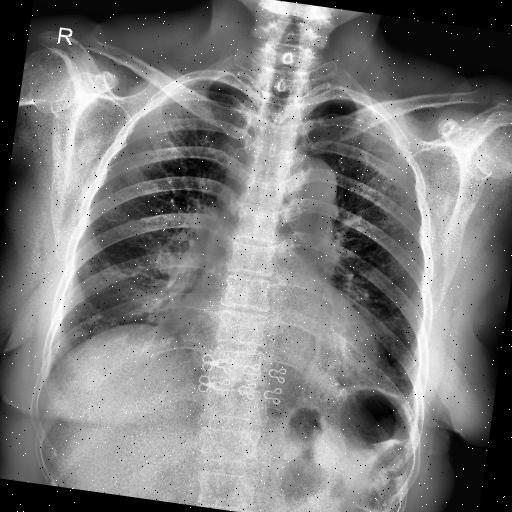0- Aortic enlargement: (266, 148, 345, 218), (280, 152, 338, 222), (286, 155, 340, 211)
3- Cardiomegaly: (162, 286, 391, 388), (173, 288, 389, 388), (168, 288, 384, 380)
